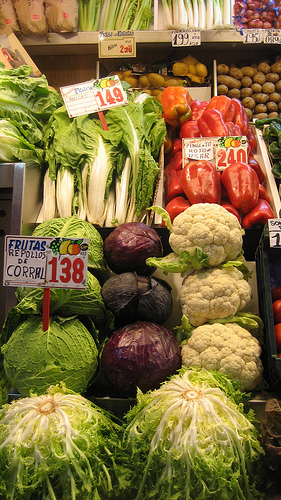cabbage: (0, 377, 122, 498), (0, 313, 95, 398), (99, 327, 178, 395), (15, 269, 102, 323), (28, 214, 105, 271), (105, 274, 173, 323)
